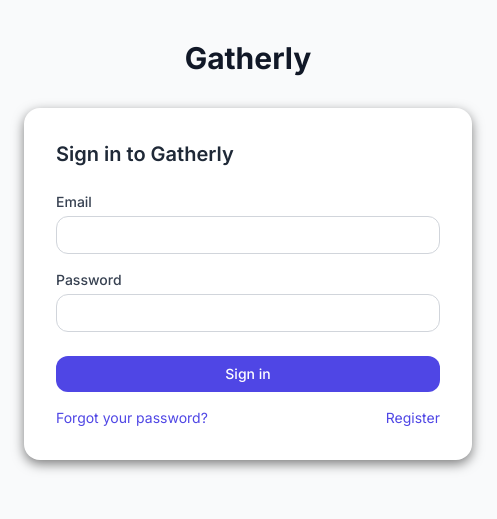
Scenario: <OrgLoginForm> › displays an error message on failed login
Type "bad@org.com" into the field labelled "Email" at (248, 235), box [56,216,440,254]
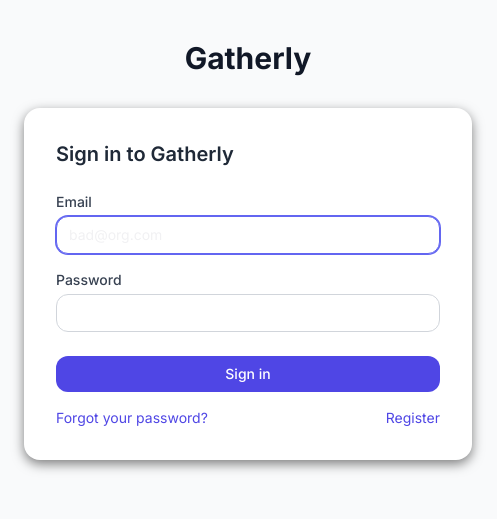
Type "wrong" into the password field labelled "Password" at (248, 313), box [56,294,440,332]
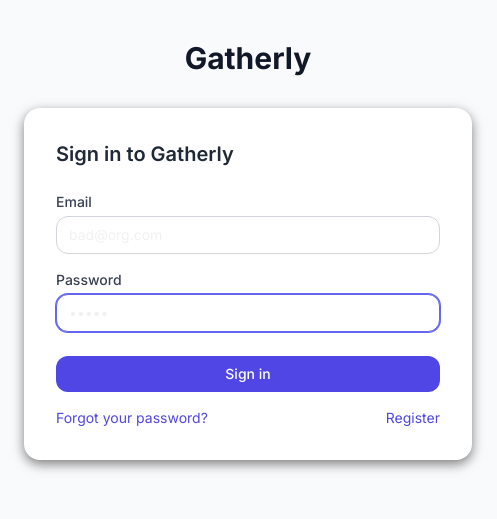
Click the button "Sign in" at (248, 374), box [56,356,440,392]
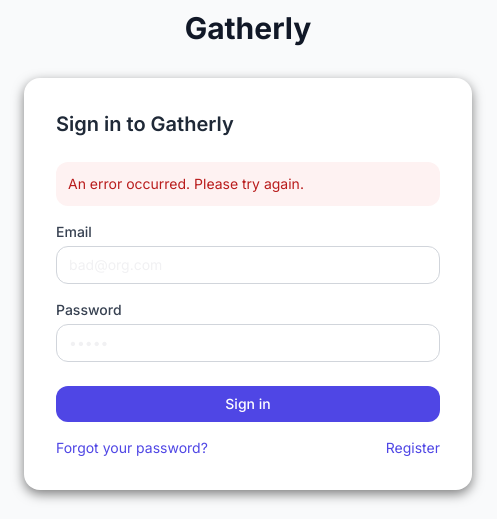
expect the message "An error occurred. Please try again." is shown: met, box [56,162,440,206]
